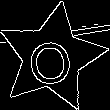O_N: (26, 29, 77, 86)
